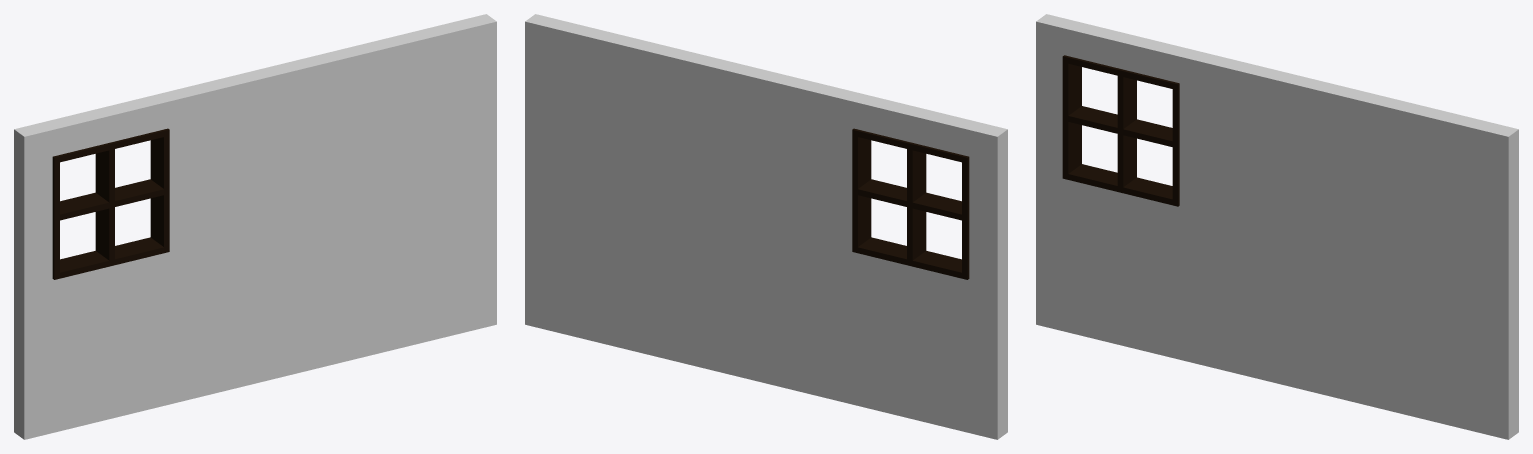
File: WindowedWall_lvl1.FBX
3 renders of one model, left to right at view 1: azimuth 30°, elevation 25°; view 2: azimuth 150°, elevation 25°; view 3: azimuth 330°, elevation 25°, orthographic.
Visible parts, largest first — view 1: Window2x2; view 2: Window2x2; view 3: Window2x2.
Boxes of the visible parts, x1,y1,x2,y2 form: Window2x2: (14, 14, 496, 439); Window2x2: (525, 14, 1007, 439); Window2x2: (1036, 14, 1518, 439).
Bounding box in the file's own units: 4.23 × 2.6 × 0.2119.
